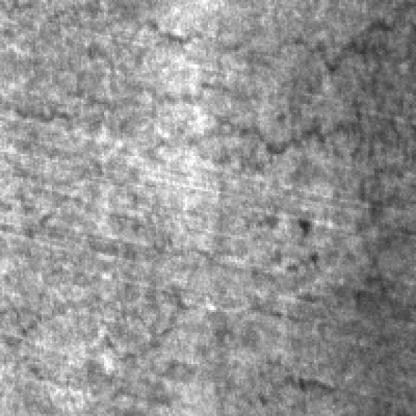crazing: (8, 14, 356, 168), (349, 4, 414, 316)
